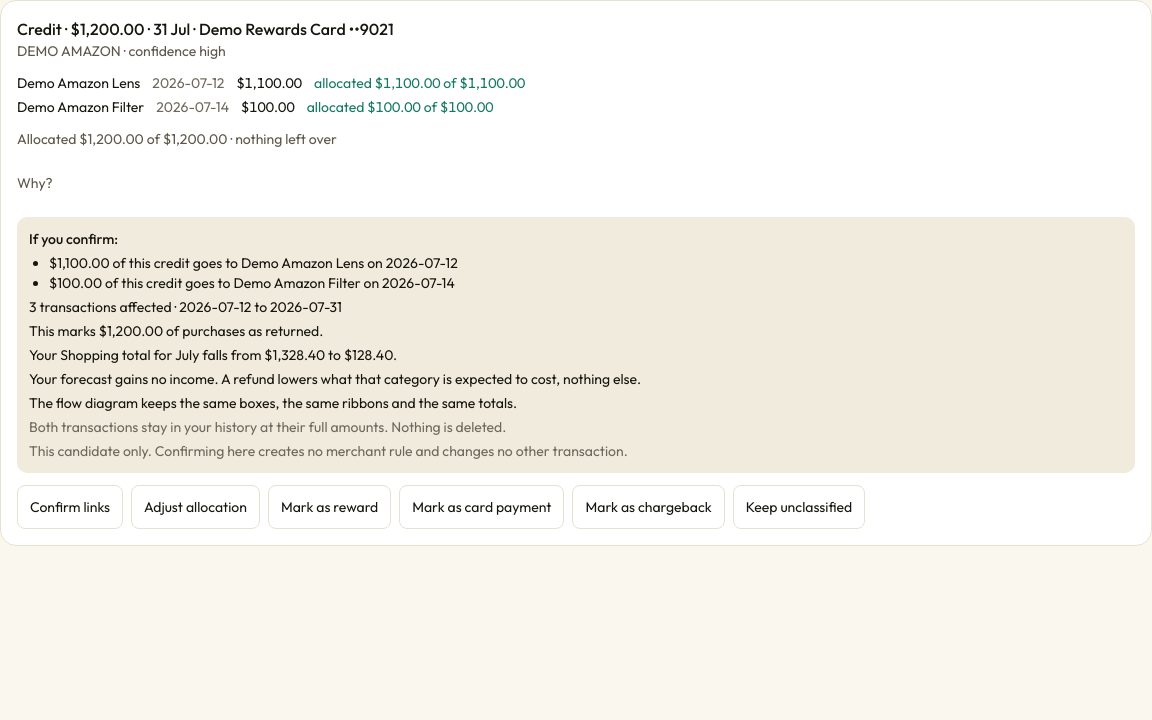
it: FIN-RECOVERY-UI-001 · cards (C1-C11) › C11 — reason text is plain language, and no bare score is rendered anywhere
The width and height of the screenshot is (1152, 720).
Click the heading "Why?" at [35, 183], box [17,174,53,192]
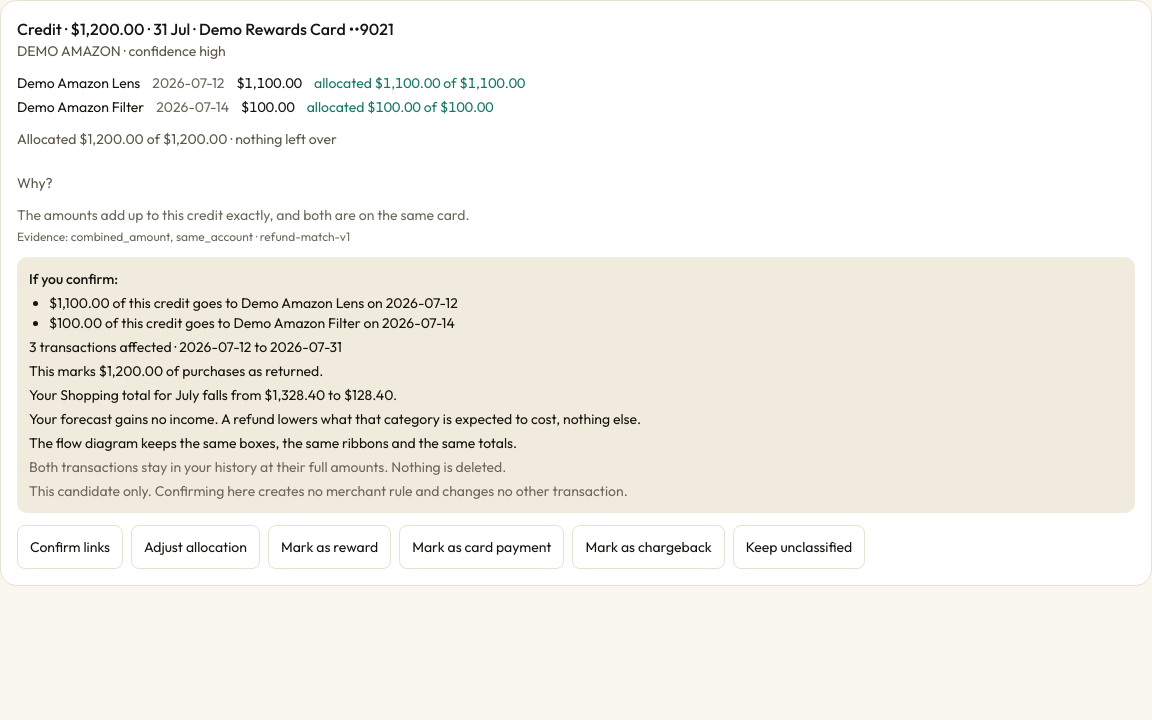
Expected: the text "confidence high" is shown, [17,42,226,60]
Expected: the text "The amounts add up to this credit exactly, and both are on the same card." is shown, [17,206,470,224]
